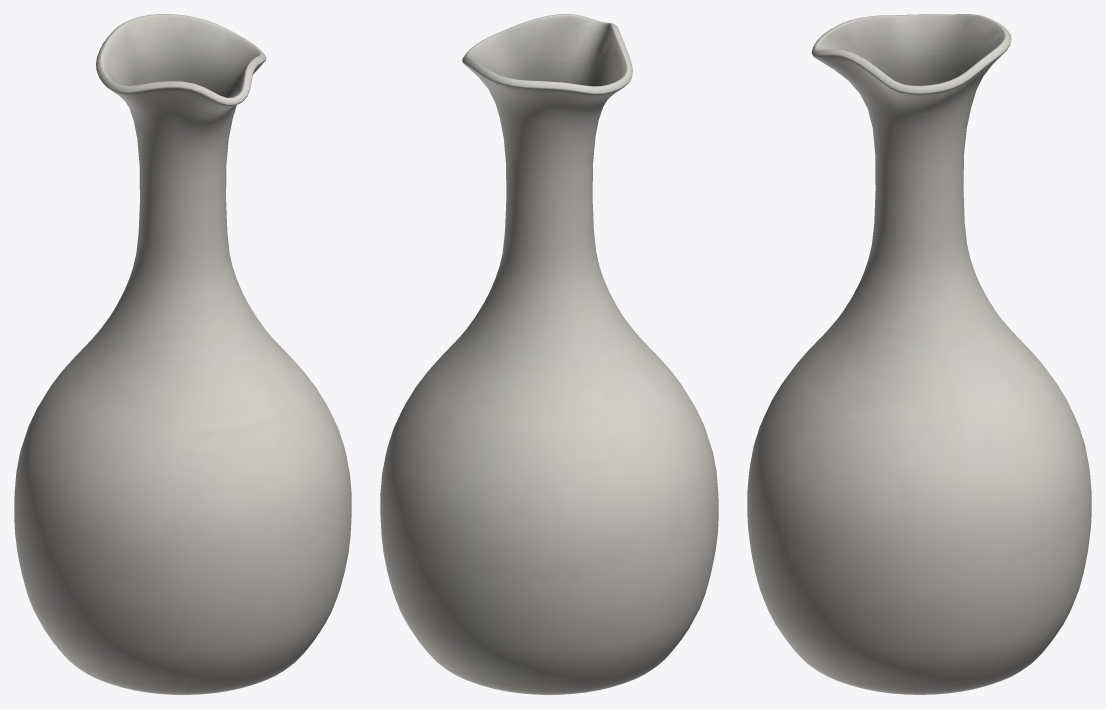
The model's file is ceramic_vase_01.glb.
3 renders of one model, left to right at view 1: azimuth 30°, elevation 25°; view 2: azimuth 150°, elevation 25°; view 3: azimuth 270°, elevation 25°, orthographic. The views are drawn at different scales.
Visible parts, largest first — view 1: ceramic_vase_01; view 2: ceramic_vase_01; view 3: ceramic_vase_01.
Boxes of the visible parts, x1=… form: ceramic_vase_01: x1=14, y1=14, x2=351, y2=694; ceramic_vase_01: x1=380, y1=14, x2=718, y2=694; ceramic_vase_01: x1=747, y1=14, x2=1091, y2=694.
Bounding box in the file's own units: 0.2036 × 0.4003 × 0.2036.
1 material, 1 textured.
